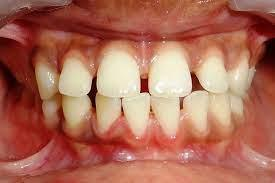Spaced: (190, 70, 202, 92), (140, 74, 148, 92), (88, 94, 95, 112), (178, 95, 185, 110), (92, 74, 97, 92), (120, 97, 124, 114)
